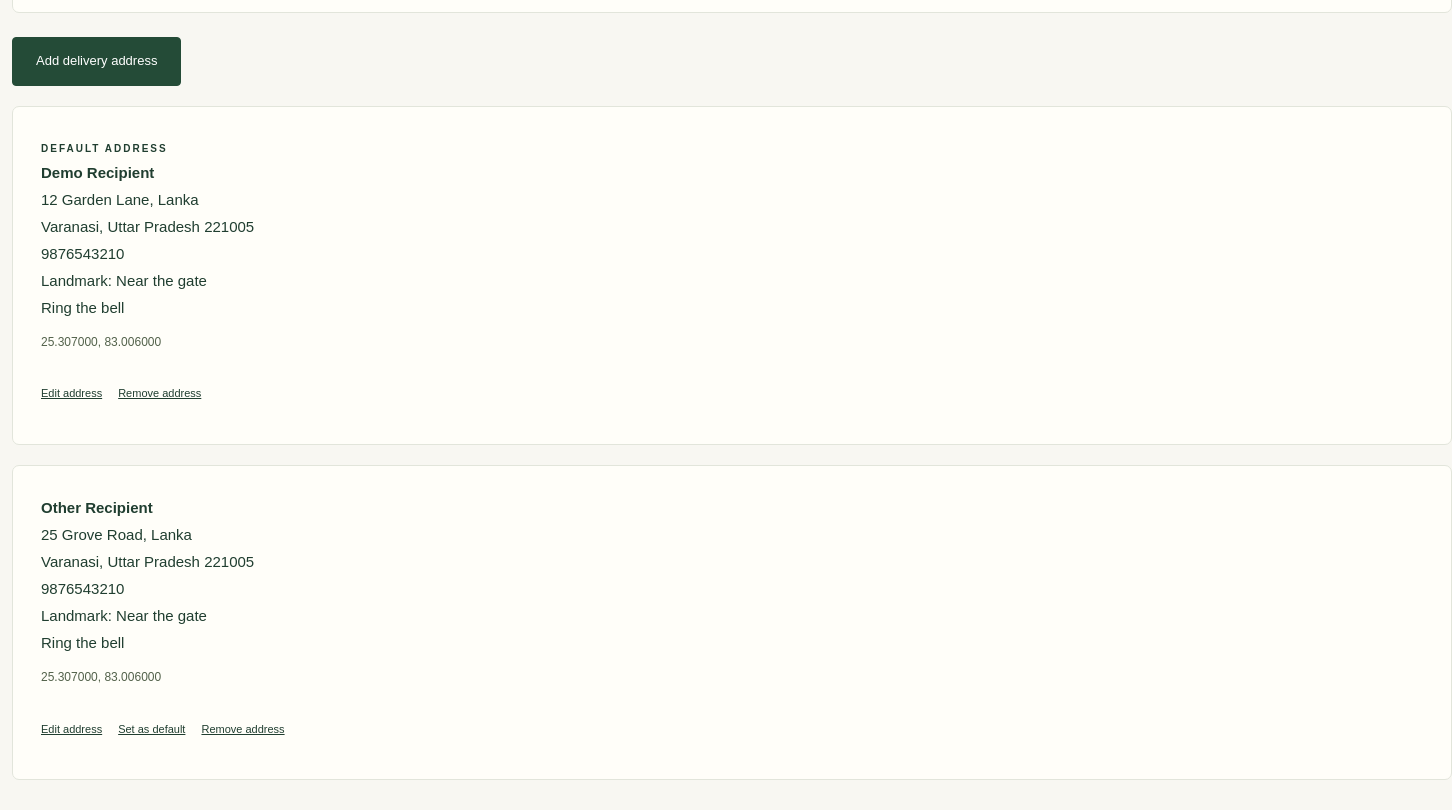
Test: saved delivery address book › sets default and removes an address through individual ownership-scoped routes
The image size is (1452, 810).
(page scrolled)
Expected: the text "Demo Recipient" is shown, [41,164,154,181]
What coordinates should you click on to do the following:
click the button "Set as default"
I would click on:
 (152, 730)
Its box is [118,708,186,752].
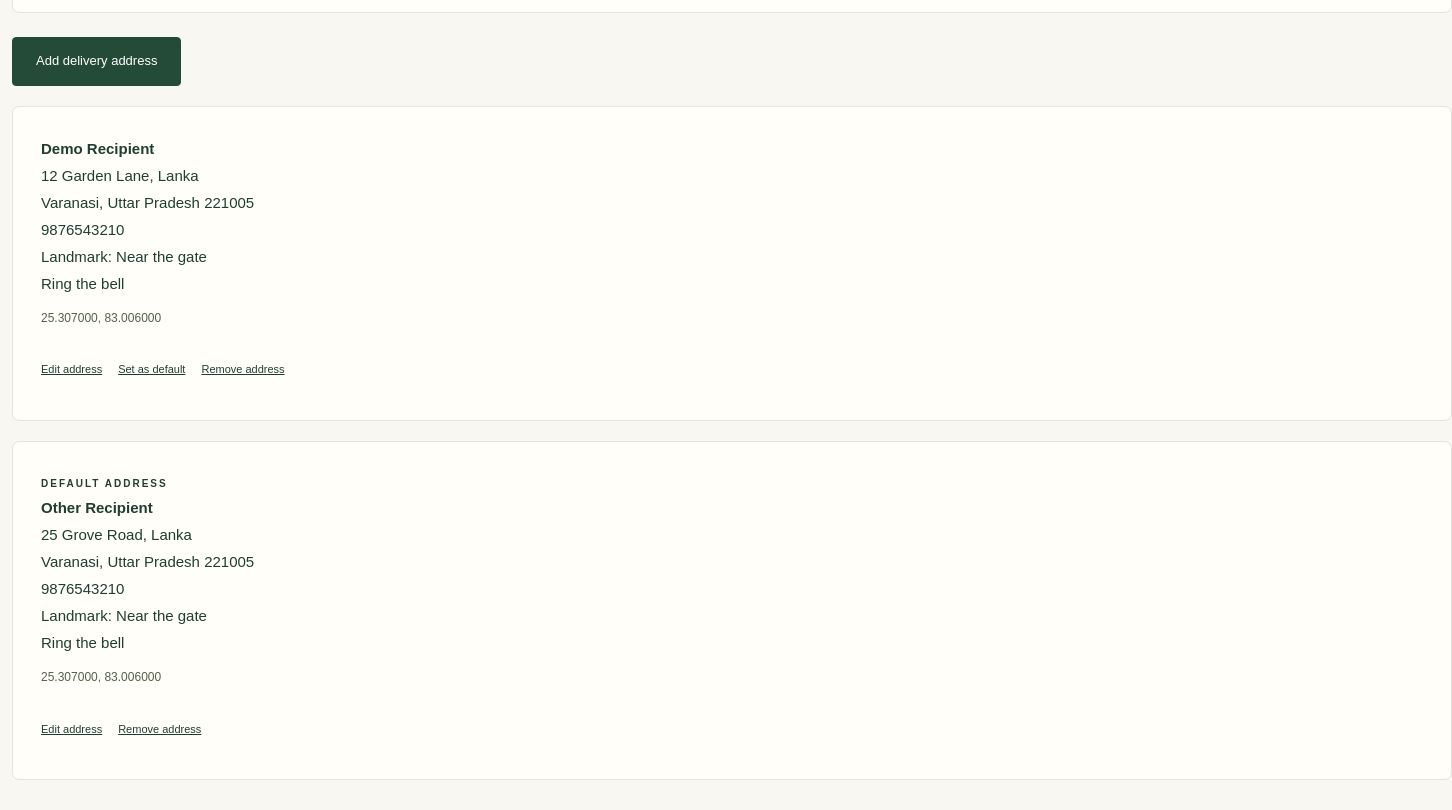
Expected: the text "DEFAULT ADDRESS" is shown, [41,478,168,489]
What coordinates should you click on to do the following:
click the button "Remove address" below "25 Grove Road"
I would click on:
 (160, 730)
Its box is [118,708,201,752].
(page scrolled)
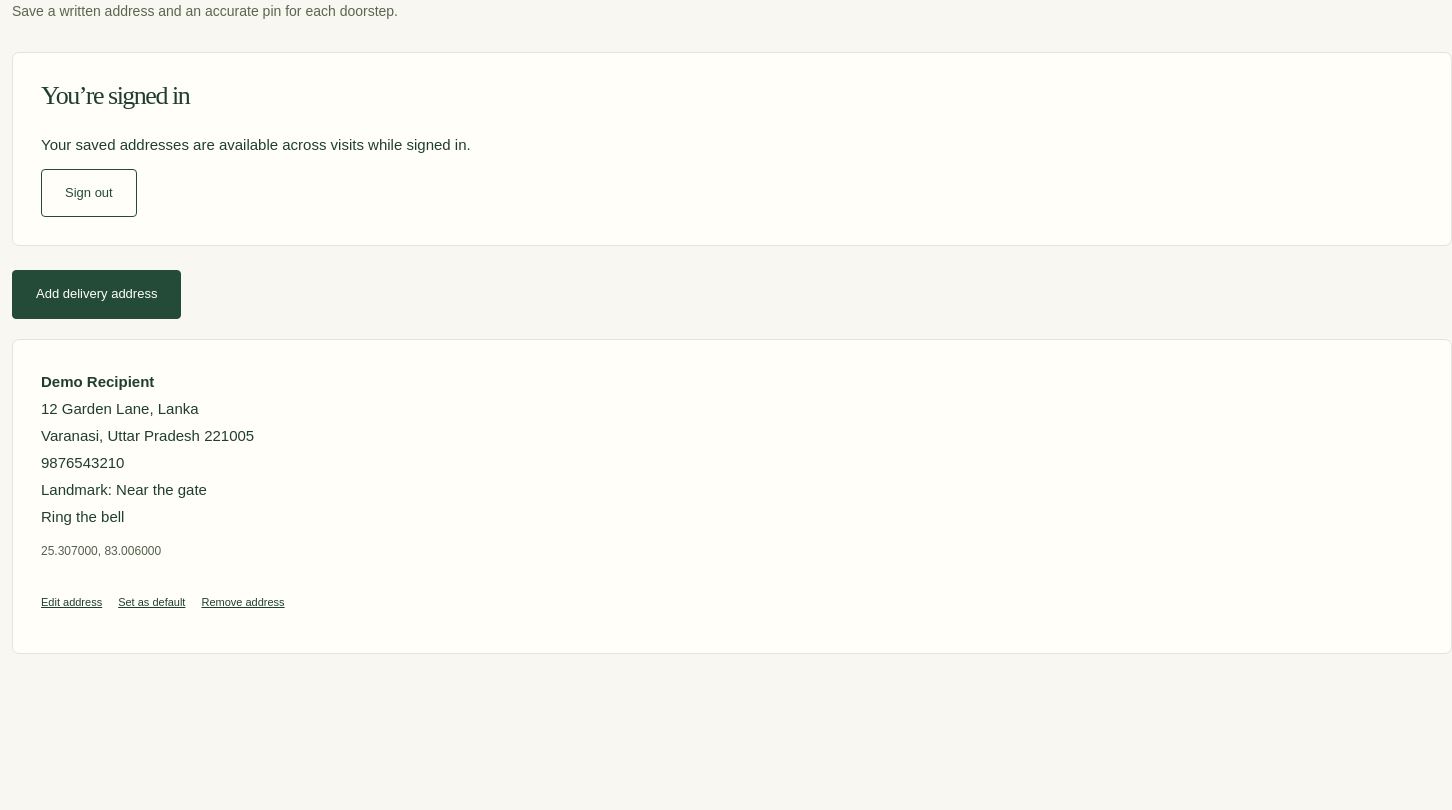
Expected: the text "Demo Recipient" is shown, [41,373,154,390]
Expected: the text "Other Recipient" is gone
